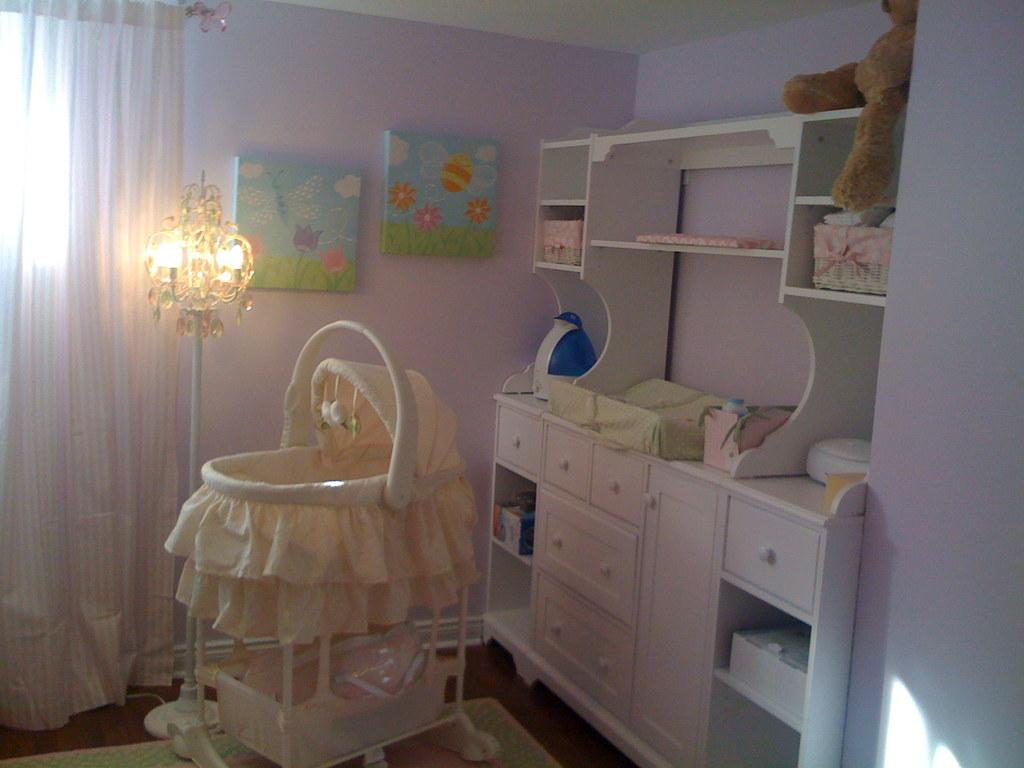cabinet_door: (644, 470, 710, 742), (534, 598, 628, 680), (536, 510, 633, 587), (732, 502, 814, 591), (540, 428, 598, 495), (594, 452, 650, 511), (495, 411, 540, 465)
handle: (753, 532, 779, 573), (542, 524, 568, 554), (593, 554, 615, 586), (646, 487, 664, 518), (556, 451, 575, 479), (594, 652, 612, 680), (606, 476, 624, 502), (547, 610, 563, 638), (512, 431, 526, 453)
